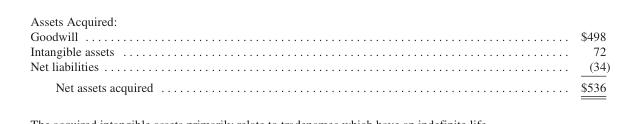table: (29, 28, 609, 93)
table column: (29, 28, 366, 93), (366, 28, 609, 93)
table row: (29, 58, 609, 76), (29, 76, 609, 93), (29, 28, 609, 43), (29, 43, 609, 58)
